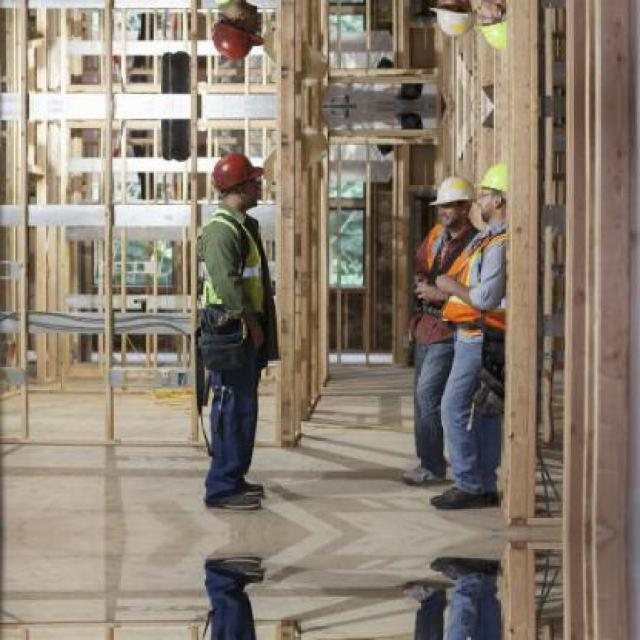Reflective-Jacket: (182, 208, 283, 344), (440, 222, 534, 346), (402, 219, 480, 349)
Safety-Helmet: (202, 145, 269, 200), (469, 154, 528, 211), (422, 170, 482, 216)
